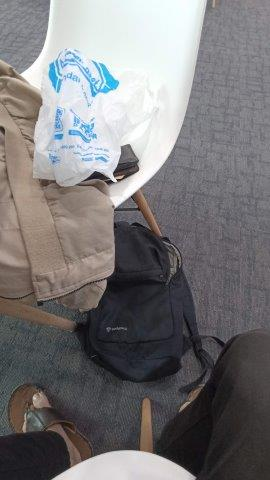plastik: (33, 48, 160, 187)
